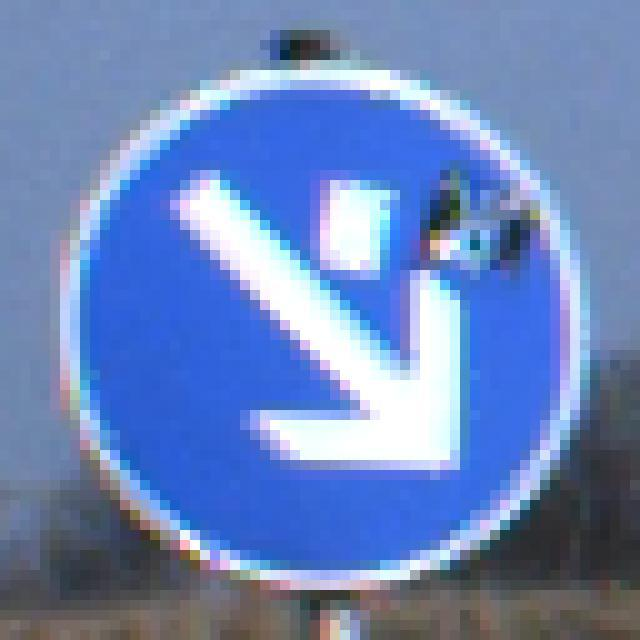compulsary keep right: (60, 68, 591, 591)
